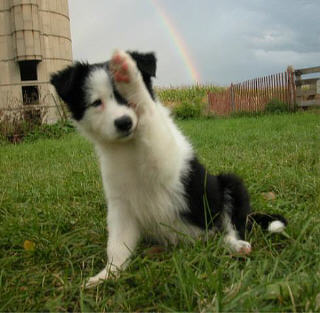dog: (45, 47, 290, 291)
